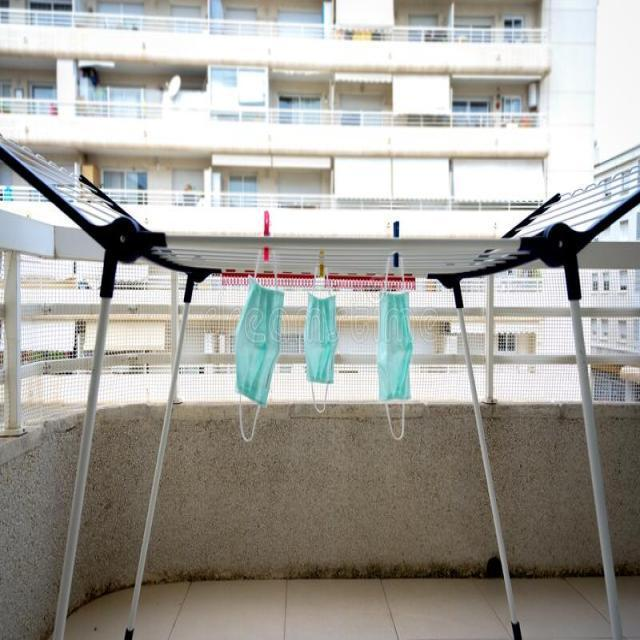clothes: (239, 292, 419, 463)
